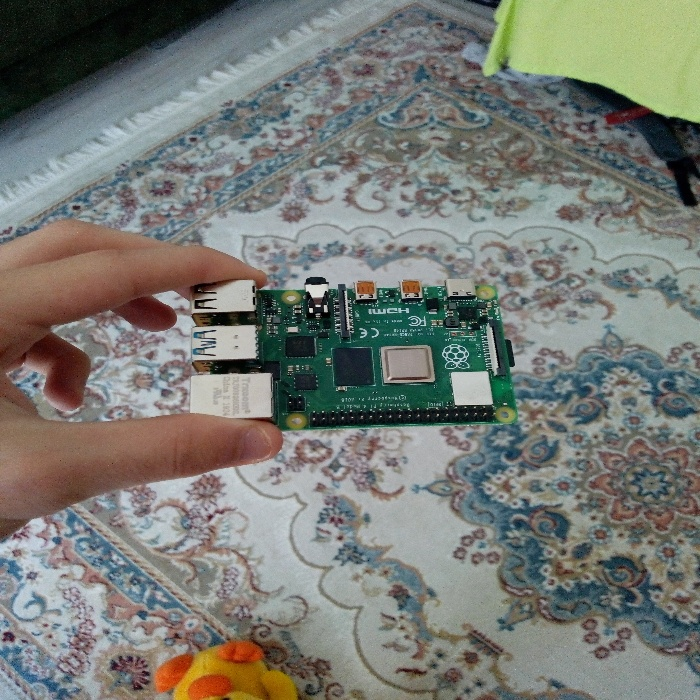raspberry: (140, 262, 534, 447)
